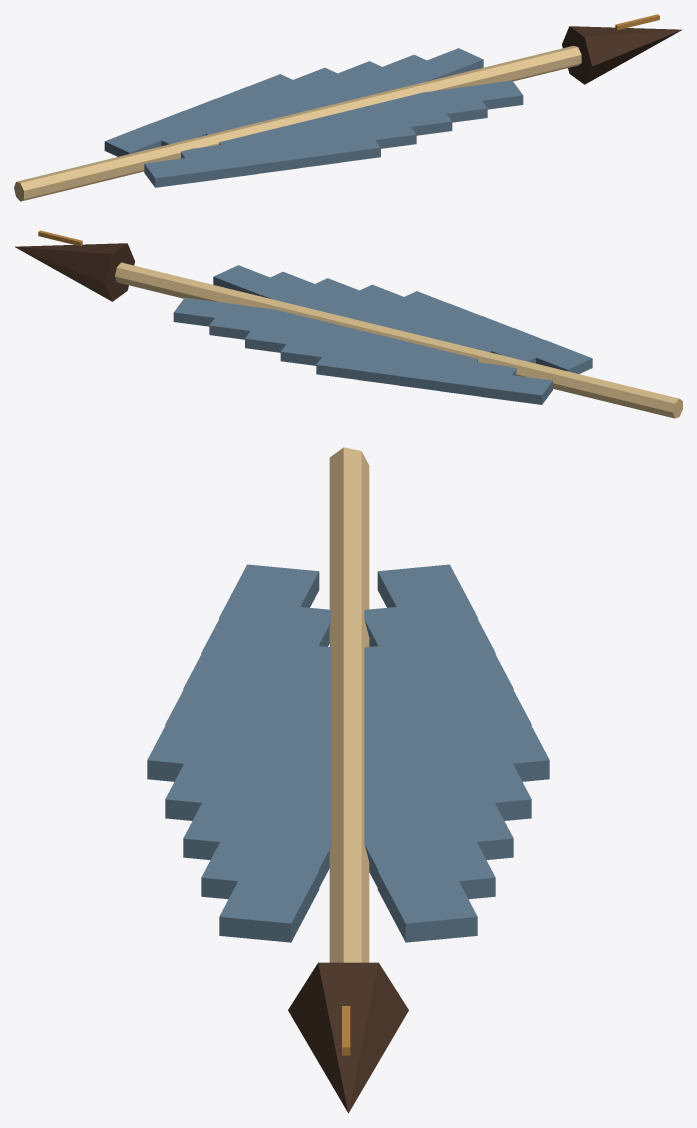
Rendered from quill.glb.
3 renders of one model, top to bottom at view 1: azimuth 30°, elevation 25°; view 2: azimuth 150°, elevation 25°; view 3: azimuth 270°, elevation 25°, orthographic. The views are drawn at different scales.
Parts seen in each view (by area): view 1: QuillShaft, Nib, VaneR3, VaneR4, VaneR5, VaneR6, VaneR7, VaneL3, VaneL5, VaneR0, VaneR1, VaneR2 (+9 smaller); view 2: QuillShaft, Nib, VaneL3, VaneL5, VaneR4, VaneL7, VaneL1, VaneR5, VaneL4, VaneL0, VaneR6, VaneL2 (+9 smaller); view 3: QuillShaft, Nib, VaneR5, VaneL4, VaneR2, VaneL5, VaneL2, VaneL3, VaneL6, VaneR4, VaneR7, VaneR3 (+8 smaller).
Boxes of the visible parts, bbox=[...] form: QuillShaft: bbox=[14, 45, 581, 201]; Nib: bbox=[562, 26, 682, 84]; VaneR3: bbox=[258, 119, 339, 168]; VaneR4: bbox=[296, 109, 380, 162]; VaneR5: bbox=[339, 105, 416, 148]; VaneR6: bbox=[373, 92, 452, 135]; VaneR7: bbox=[411, 86, 487, 122]; VaneL3: bbox=[216, 86, 302, 133]; VaneL5: bbox=[278, 67, 365, 114]; VaneR0: bbox=[144, 155, 216, 187]; VaneR1: bbox=[181, 142, 257, 179]; VaneR2: bbox=[219, 131, 298, 173]; QuillShaft: bbox=[115, 262, 682, 418]; Nib: bbox=[14, 243, 134, 301]; VaneL3: bbox=[357, 336, 439, 385]; VaneL5: bbox=[280, 317, 361, 365]; VaneR4: bbox=[355, 291, 463, 339]; VaneL7: bbox=[209, 303, 285, 339]; VaneL1: bbox=[439, 359, 516, 396]; VaneR5: bbox=[317, 284, 414, 331]; VaneL4: bbox=[316, 322, 410, 379]; VaneL0: bbox=[481, 375, 552, 404]; VaneR6: bbox=[279, 278, 374, 309]; VaneL2: bbox=[398, 350, 478, 390]; QuillShaft: bbox=[329, 447, 369, 962]; Nib: bbox=[288, 962, 408, 1113]; VaneR5: bbox=[165, 747, 369, 820]; VaneL4: bbox=[306, 718, 549, 781]; VaneR2: bbox=[183, 636, 331, 702]; VaneL5: bbox=[324, 763, 531, 820]; VaneL2: bbox=[364, 636, 513, 702]; VaneL3: bbox=[324, 672, 531, 733]; VaneL6: bbox=[364, 794, 513, 859]; VaneR4: bbox=[147, 715, 390, 781]; VaneR7: bbox=[201, 825, 331, 899]; VaneR3: bbox=[165, 671, 370, 737].
Size of the model in its own units: 6.58 by 0.4503 by 1.73.
